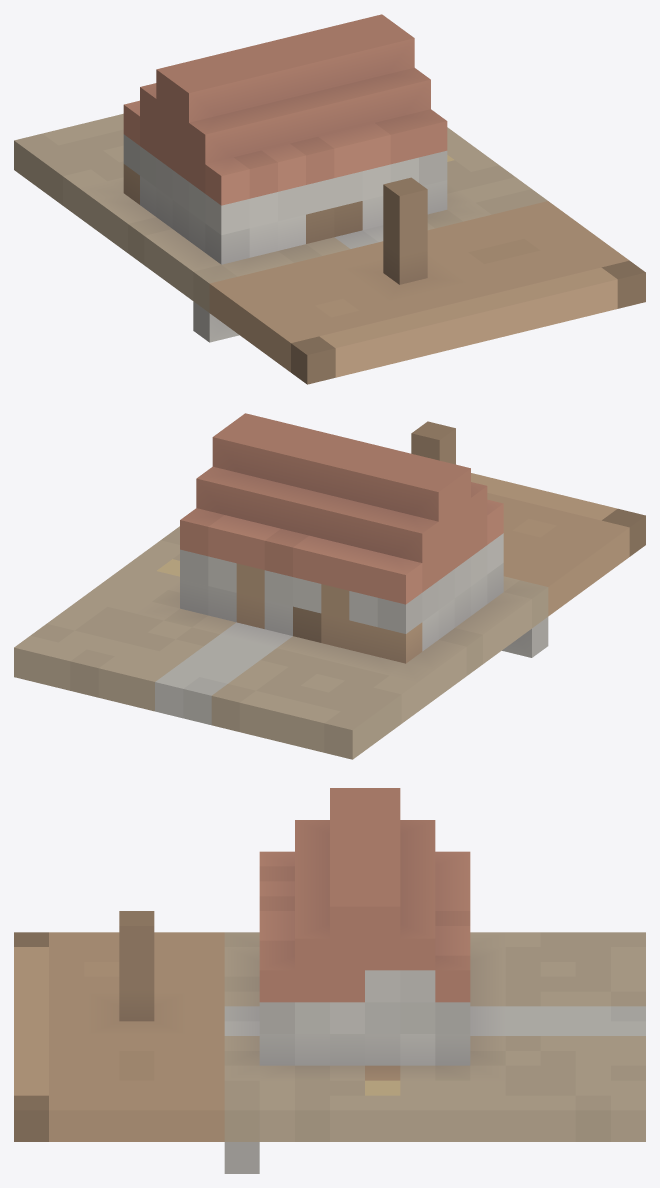
File: trading_post.l3.lite.glb
The picture shows the model from 3 angles, top to bottom: view 1: azimuth 30°, elevation 25°; view 2: azimuth 150°, elevation 25°; view 3: azimuth 270°, elevation 25°; orthographic projection. The views are drawn at different scales.
Visible parts, largest first — view 1: trading_post; view 2: trading_post; view 3: trading_post.
Part boxes in pixels (left/top/right/bottom): trading_post: left=14, top=14, right=645, bottom=384; trading_post: left=14, top=413, right=645, bottom=759; trading_post: left=14, top=788, right=645, bottom=1173.
Size of the model in its own units: 6 by 3.5 by 9.
